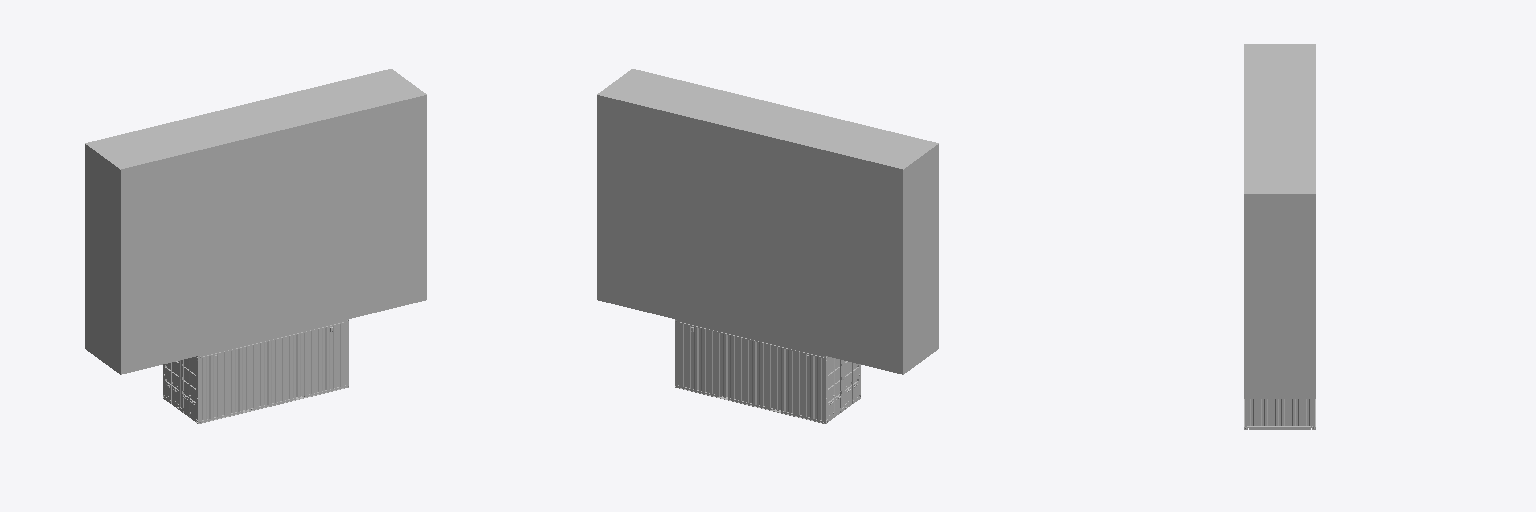
The model's file is c20ft_rear.obj.
3 renders of one model, left to right at view 1: azimuth 30°, elevation 25°; view 2: azimuth 150°, elevation 25°; view 3: azimuth 270°, elevation 25°, orthographic.
Visible parts, largest first — view 1: CARGO_ITEMS_7_IRSIZE, CARGO_ITEMS_4_IRSIZE, CARGO_ITEMS_2_IRSIZE, CARGO_ITEMS_9_IRSIZE, SHELL, CARGO_ITEMS_1_IRSIZE, CARGO_ITEMS_5_IRSIZE, CARGO_ITEMS_8_IRSIZE, CARGO_ITEMS_6_IRSIZE, CARGO_ITEMS_3_IRSIZE, FRAME; view 2: CARGO_ITEMS_7_IRSIZE, CARGO_ITEMS_9_IRSIZE, CARGO_ITEMS_3_IRSIZE, CARGO_ITEMS_8_IRSIZE, SHELL, CARGO_ITEMS_6_IRSIZE, CARGO_ITEMS_4_IRSIZE, CARGO_ITEMS_1_IRSIZE, CARGO_ITEMS_5_IRSIZE, CARGO_ITEMS_2_IRSIZE, FRAME; view 3: CARGO_ITEMS_9_IRSIZE, CARGO_ITEMS_8_IRSIZE, CARGO_ITEMS_6_IRSIZE, CARGO_ITEMS_3_IRSIZE, CARGO_ITEMS_7_IRSIZE, SHELL.
Part boxes in pixels (x1,y1,x2,y2): CARGO_ITEMS_7_IRSIZE: (85,108,271,237); CARGO_ITEMS_4_IRSIZE: (85,201,271,305); CARGO_ITEMS_2_IRSIZE: (198,251,349,355); CARGO_ITEMS_9_IRSIZE: (240,69,426,199); SHELL: (201,323,345,420); CARGO_ITEMS_1_IRSIZE: (85,274,271,374); CARGO_ITEMS_5_IRSIZE: (198,182,349,286); CARGO_ITEMS_8_IRSIZE: (208,88,349,208); CARGO_ITEMS_6_IRSIZE: (275,163,426,266); CARGO_ITEMS_3_IRSIZE: (275,232,426,336); FRAME: (163,319,348,423); CARGO_ITEMS_7_IRSIZE: (752,116,938,237); CARGO_ITEMS_9_IRSIZE: (597,69,764,199); CARGO_ITEMS_3_IRSIZE: (597,232,748,335); CARGO_ITEMS_8_IRSIZE: (674,88,861,218); SHELL: (678,323,822,420); CARGO_ITEMS_6_IRSIZE: (597,163,748,267); CARGO_ITEMS_4_IRSIZE: (752,201,938,305); CARGO_ITEMS_1_IRSIZE: (754,271,938,374); CARGO_ITEMS_5_IRSIZE: (687,187,825,286); CARGO_ITEMS_2_IRSIZE: (713,263,825,355); FRAME: (675,319,860,423); CARGO_ITEMS_9_IRSIZE: (1244,156,1315,261); CARGO_ITEMS_8_IRSIZE: (1244,83,1315,155); CARGO_ITEMS_6_IRSIZE: (1244,262,1315,330); CARGO_ITEMS_3_IRSIZE: (1244,331,1315,398); CARGO_ITEMS_7_IRSIZE: (1244,44,1315,92); SHELL: (1247,399,1312,425).
Size of the model in its own units: 12.14 by 10.36 by 2.45.